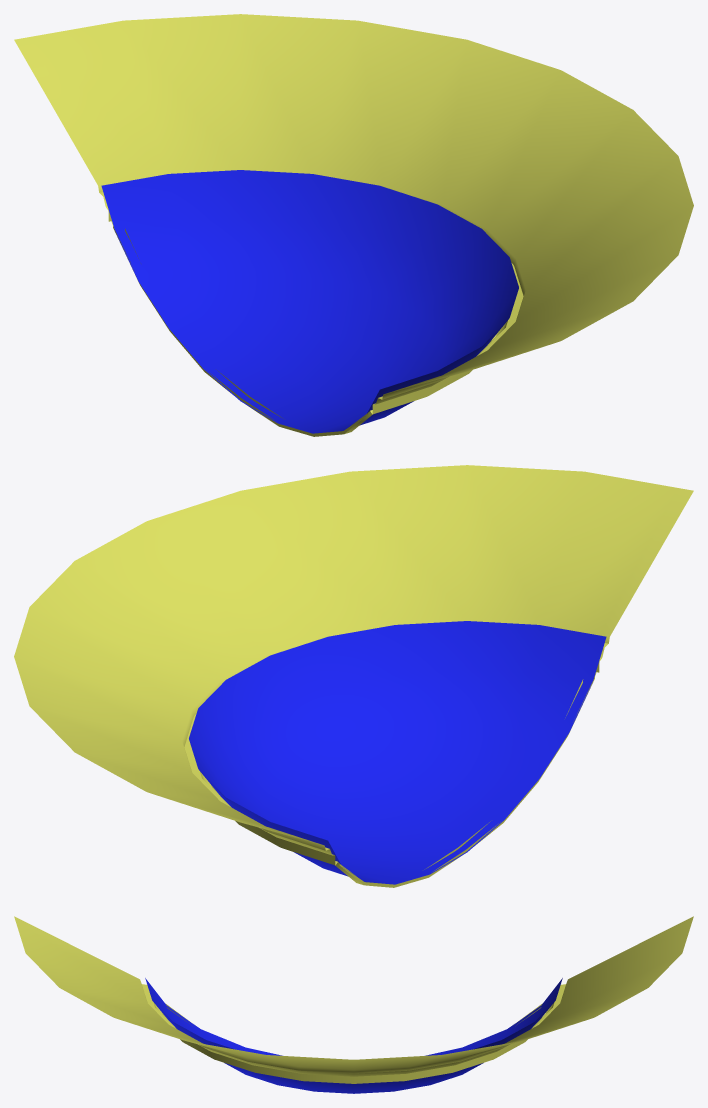
File: Lamp.FBX
3 views of the same model, one above another, from view 1: azimuth 30°, elevation 25°; view 2: azimuth 150°, elevation 25°; view 3: azimuth 270°, elevation 25° (orthographic). The views are drawn at different scales.
Parts seen in each view (by area): view 1: Cylinder26; view 2: Cylinder26; view 3: Cylinder26.
Part boxes in pixels (x1,y1,x2,y2): Cylinder26: (14,14,693,436); Cylinder26: (14,465,693,887); Cylinder26: (14,916,693,1093).
Size of the model in its own units: 23.1 by 11.06 by 46.2.
